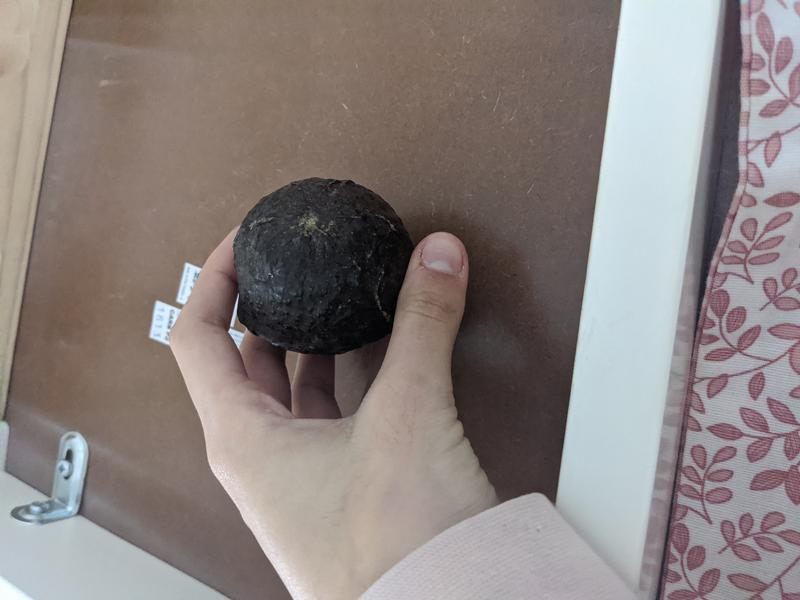avocado: (233, 178, 415, 354)
